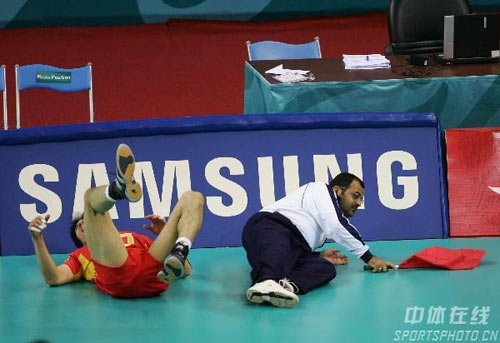down: (26, 140, 205, 304), (241, 167, 397, 310)
